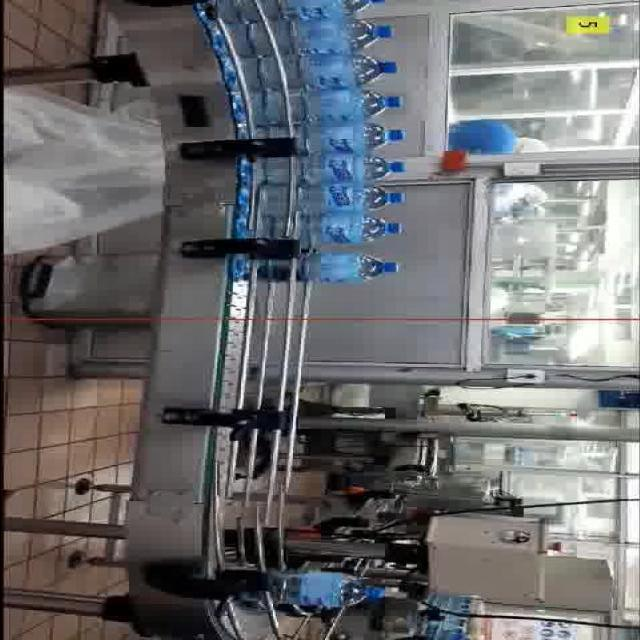bottle: (249, 565, 395, 615), (236, 16, 395, 52), (257, 85, 403, 123), (255, 50, 398, 88), (255, 151, 407, 185), (257, 211, 403, 245), (247, 182, 407, 213), (302, 120, 407, 155)
